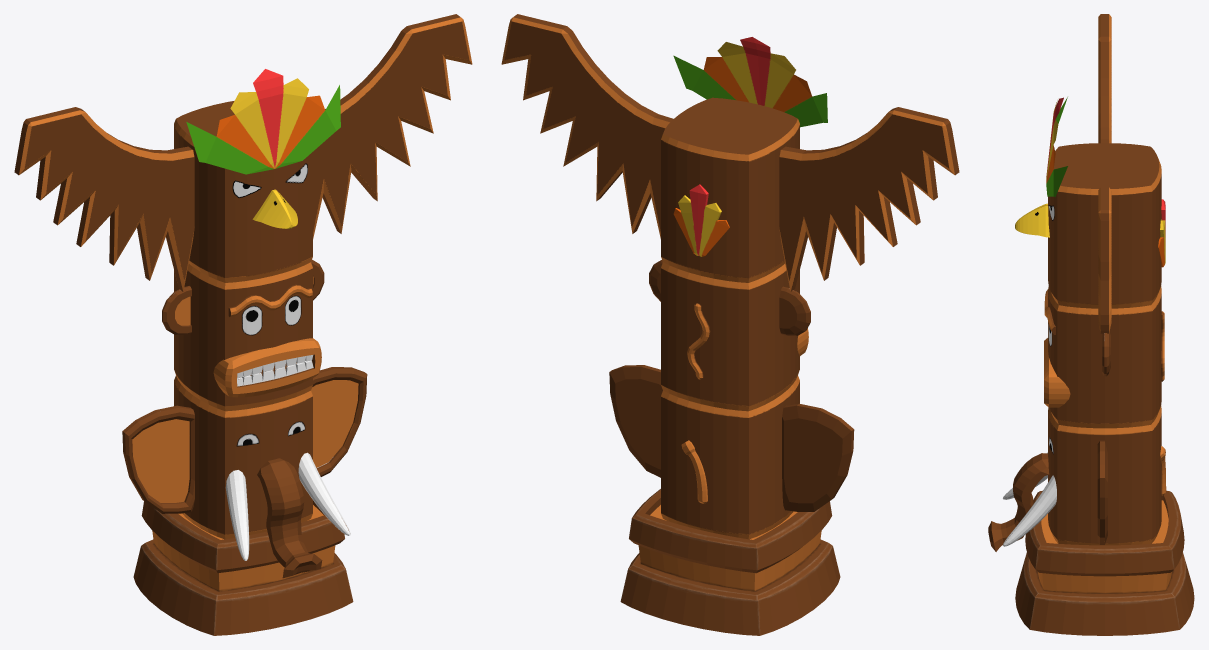
Rendered from totem.obj.
3 renders of one model, left to right at view 1: azimuth 30°, elevation 25°; view 2: azimuth 150°, elevation 25°; view 3: azimuth 270°, elevation 25°, orthographic. The views are drawn at different scales.
Parts seen in each view (by area): view 1: Cube.005_Cube.009, Cube.004_Cube.008, Cube.003_Cube.005, Pedestal.001_Plane.002; view 2: Cube.005_Cube.009, Cube.004_Cube.008, Pedestal.001_Plane.002, Cube.003_Cube.005; view 3: Cube.005_Cube.009, Pedestal.001_Plane.002, Cube.004_Cube.008, Cube.003_Cube.005.
Part boxes in pixels (<box>): Cube.005_Cube.009: <box>14,14,472,291</box>; Cube.004_Cube.008: <box>122,367,367,578</box>; Cube.003_Cube.005: <box>162,259,324,411</box>; Pedestal.001_Plane.002: <box>133,500,353,635</box>; Cube.005_Cube.009: <box>501,14,959,291</box>; Cube.004_Cube.008: <box>609,365,854,539</box>; Pedestal.001_Plane.002: <box>620,489,840,635</box>; Cube.003_Cube.005: <box>649,260,810,411</box>; Cube.005_Cube.009: <box>1015,14,1165,333</box>; Pedestal.001_Plane.002: <box>1015,490,1194,635</box>; Cube.004_Cube.008: <box>988,405,1166,551</box>; Cube.003_Cube.005: <box>1044,286,1164,428</box>.
Size of the model in its own units: 3.33 by 3.77 by 1.4.
